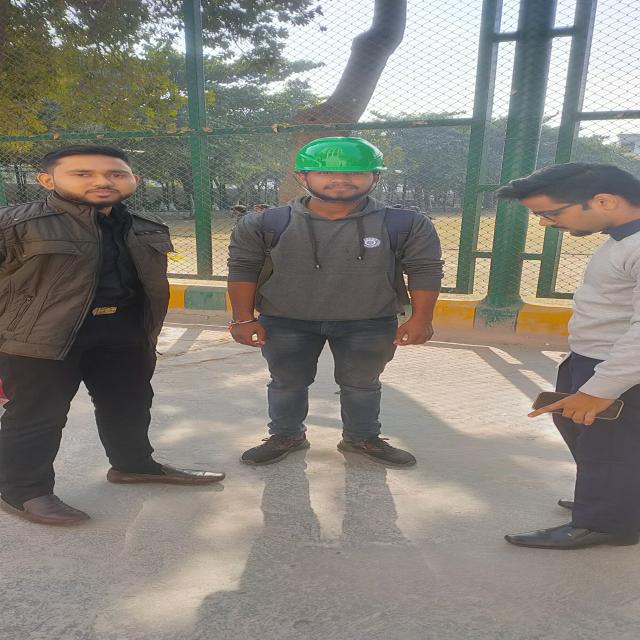no jacket: (226, 136, 441, 464)
unsafe: (0, 144, 230, 526), (497, 162, 640, 549)
